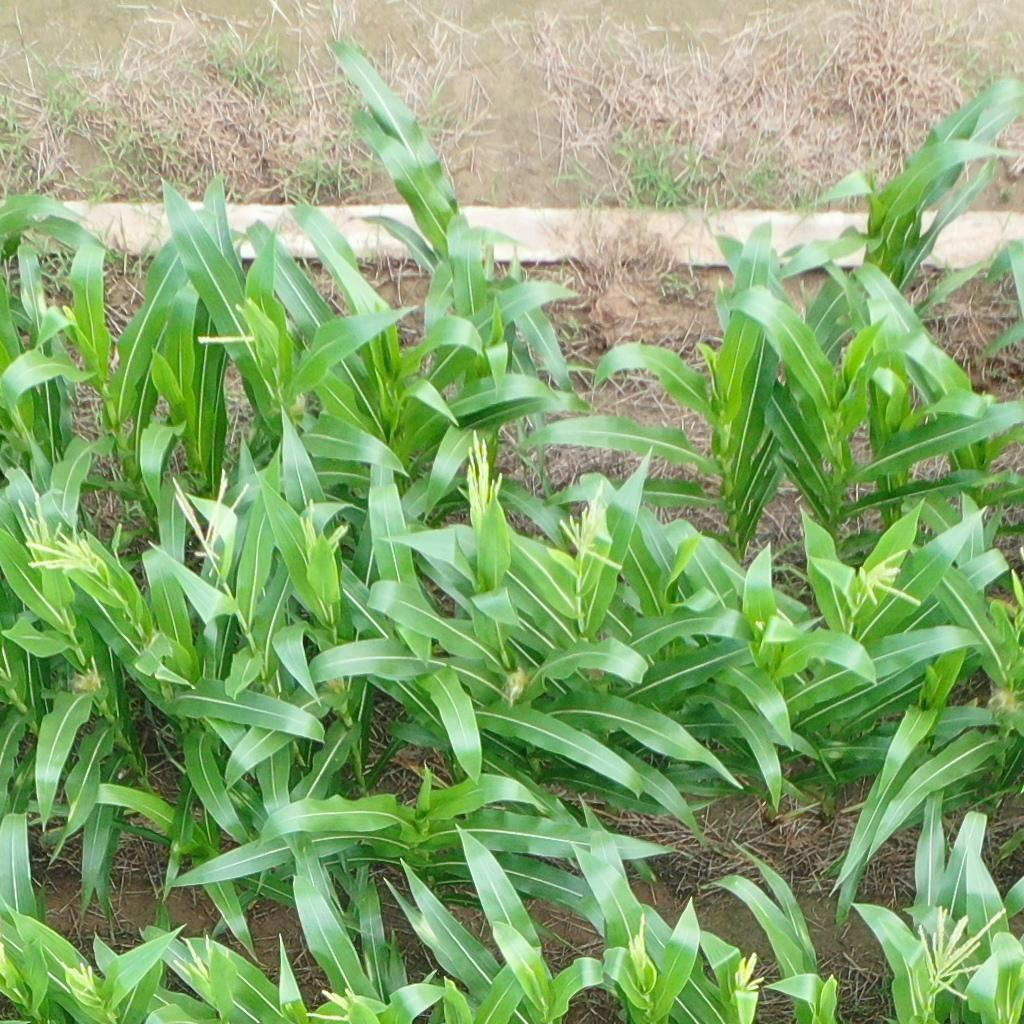Tassel: (909, 901, 1005, 1005), (165, 471, 251, 584), (556, 472, 623, 574), (850, 549, 928, 620), (459, 431, 511, 529), (21, 524, 105, 579), (13, 491, 65, 570), (293, 496, 352, 562), (195, 295, 263, 349), (170, 930, 216, 990), (305, 979, 359, 1021), (731, 950, 767, 995), (623, 914, 652, 967), (62, 959, 100, 999)
